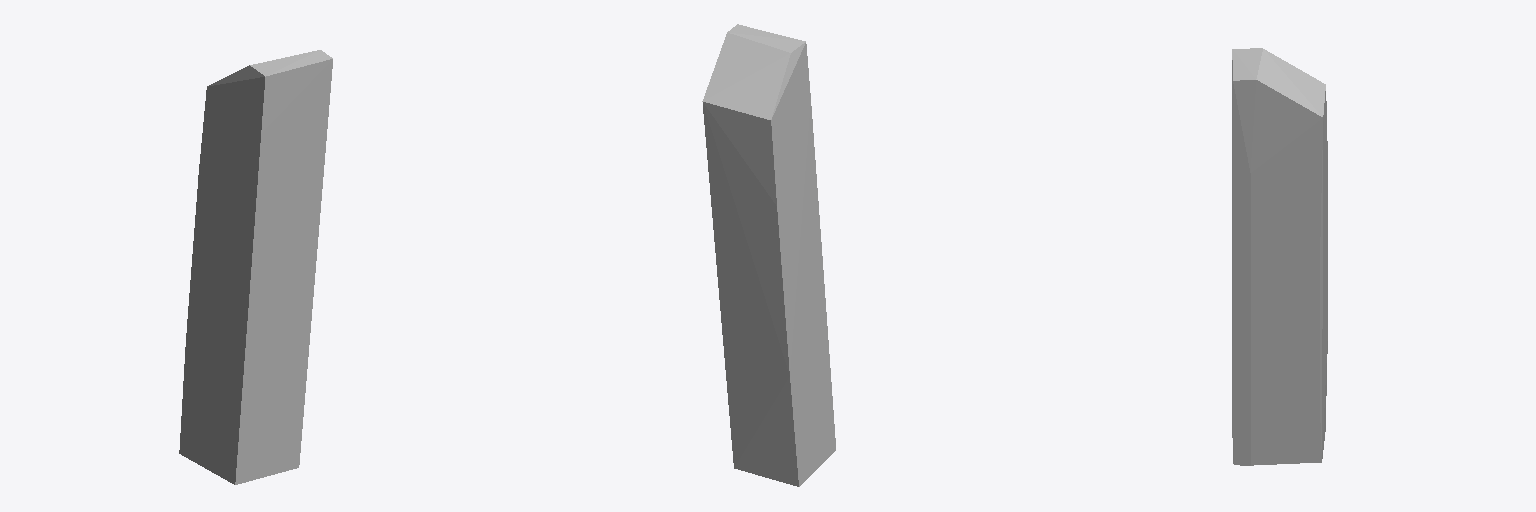
Rendered from trash_bin_collision_42.obj.
3 views of the same model, side by side, from view 1: azimuth 30°, elevation 25°; view 2: azimuth 150°, elevation 25°; view 3: azimuth 270°, elevation 25° (orthographic).
Size of the model in its own units: 0.0288 by 0.1032 by 0.0223.